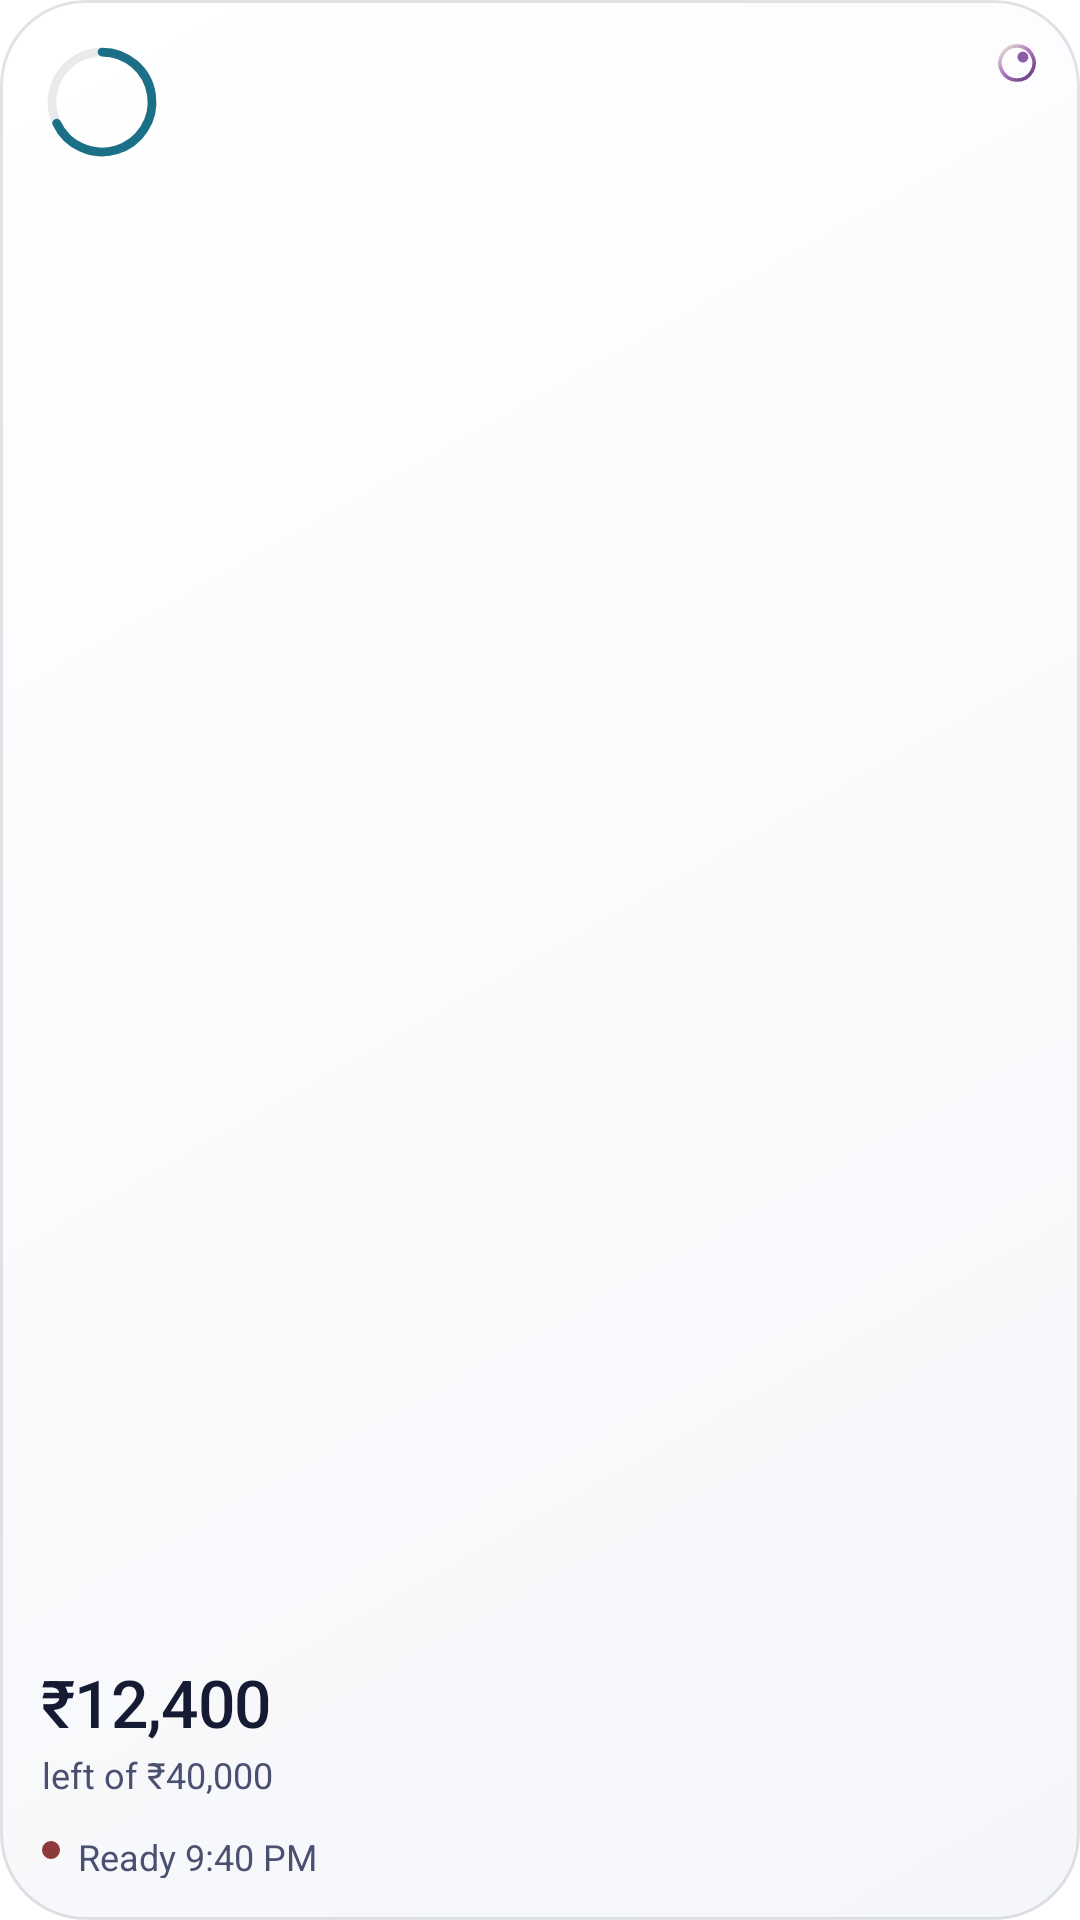

Icons on this 1080 × 1920 Android screen, each with the point to tap as point (x, y):
widget lens: point (1017, 63)
widget ring: point (104, 102)
